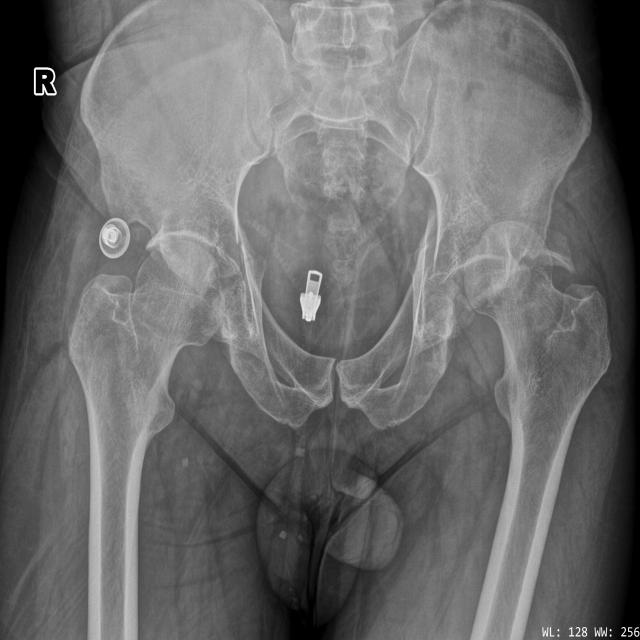left-dislocation: (464, 220, 611, 518)
normal-right: (69, 241, 225, 517)
